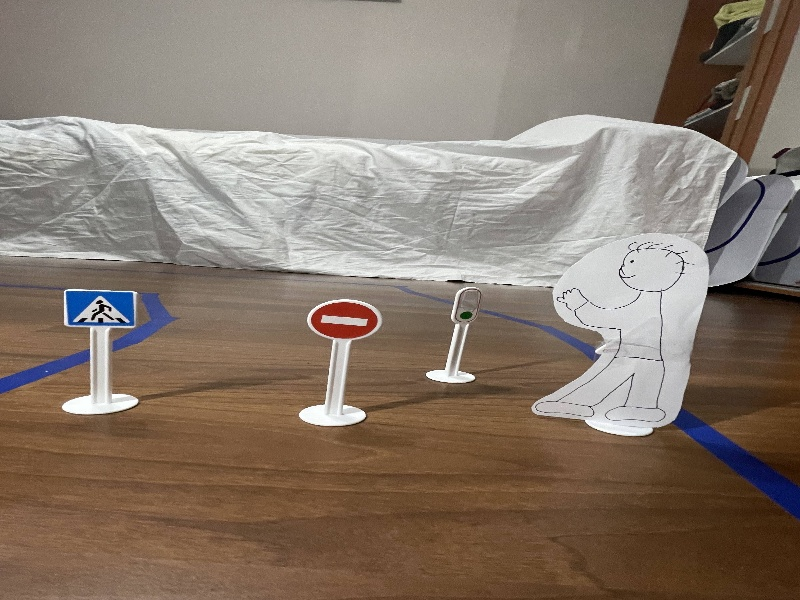interzis: (301, 286, 385, 347)
persoana: (545, 224, 711, 442)
semafor_verde: (449, 282, 485, 329)
trecere_pietoni: (61, 284, 143, 330)
